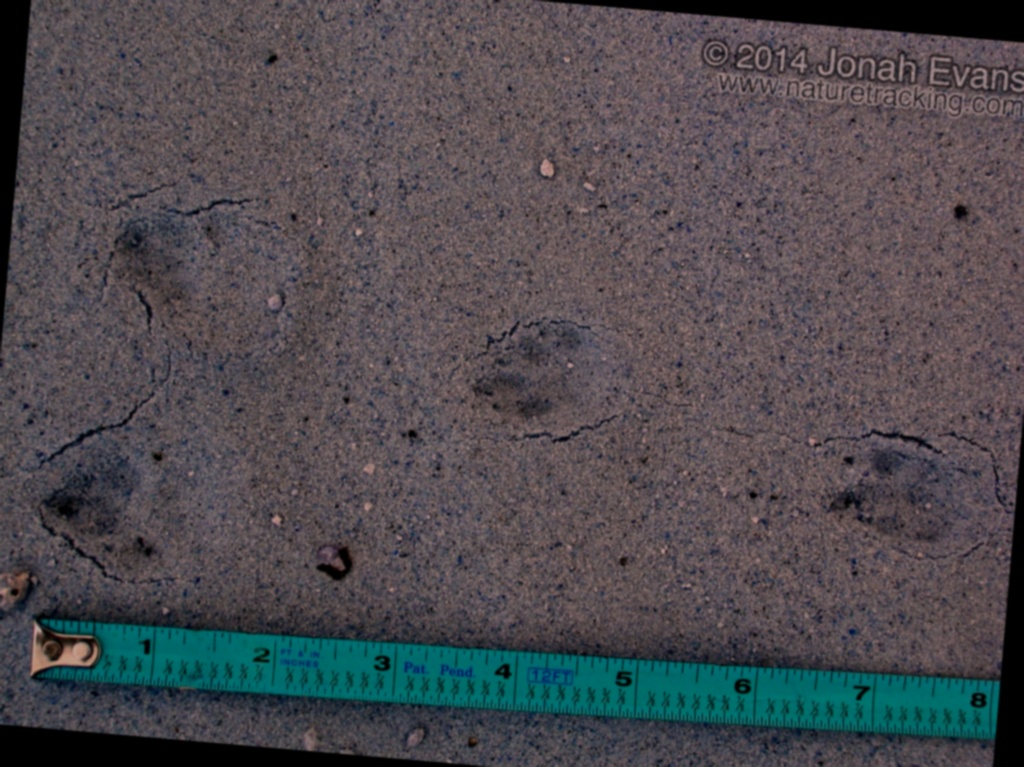lapin: (816, 377, 1005, 534), (462, 297, 649, 443), (43, 479, 185, 629)
